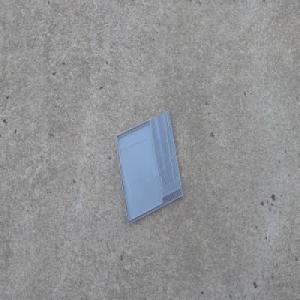PlasticPart: (114, 109, 183, 225)
